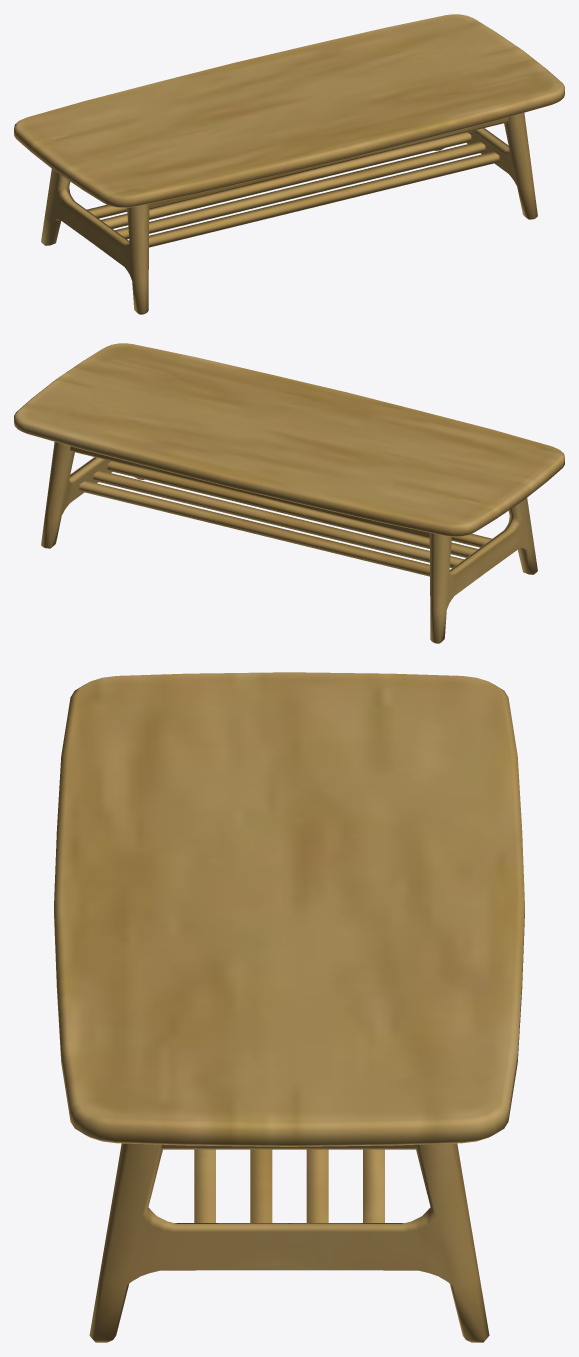
3 renders of one model, top to bottom at view 1: azimuth 30°, elevation 25°; view 2: azimuth 150°, elevation 25°; view 3: azimuth 270°, elevation 25°, orthographic. The views are drawn at different scales.
Bounding box in the file's own units: 19.45 × 5.01 × 8.48.
1 material, 1 textured.
